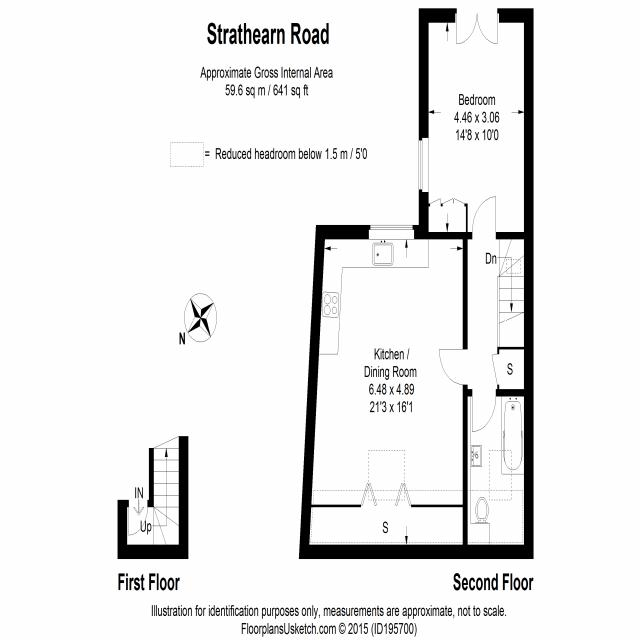DOOR: (439, 347, 468, 387), (471, 389, 497, 433), (471, 196, 497, 239)
DOUBLE DOOR: (456, 7, 498, 46)
ROOM: (299, 224, 468, 560), (418, 8, 534, 240)
WINDOW: (368, 224, 415, 240), (418, 137, 429, 193)
